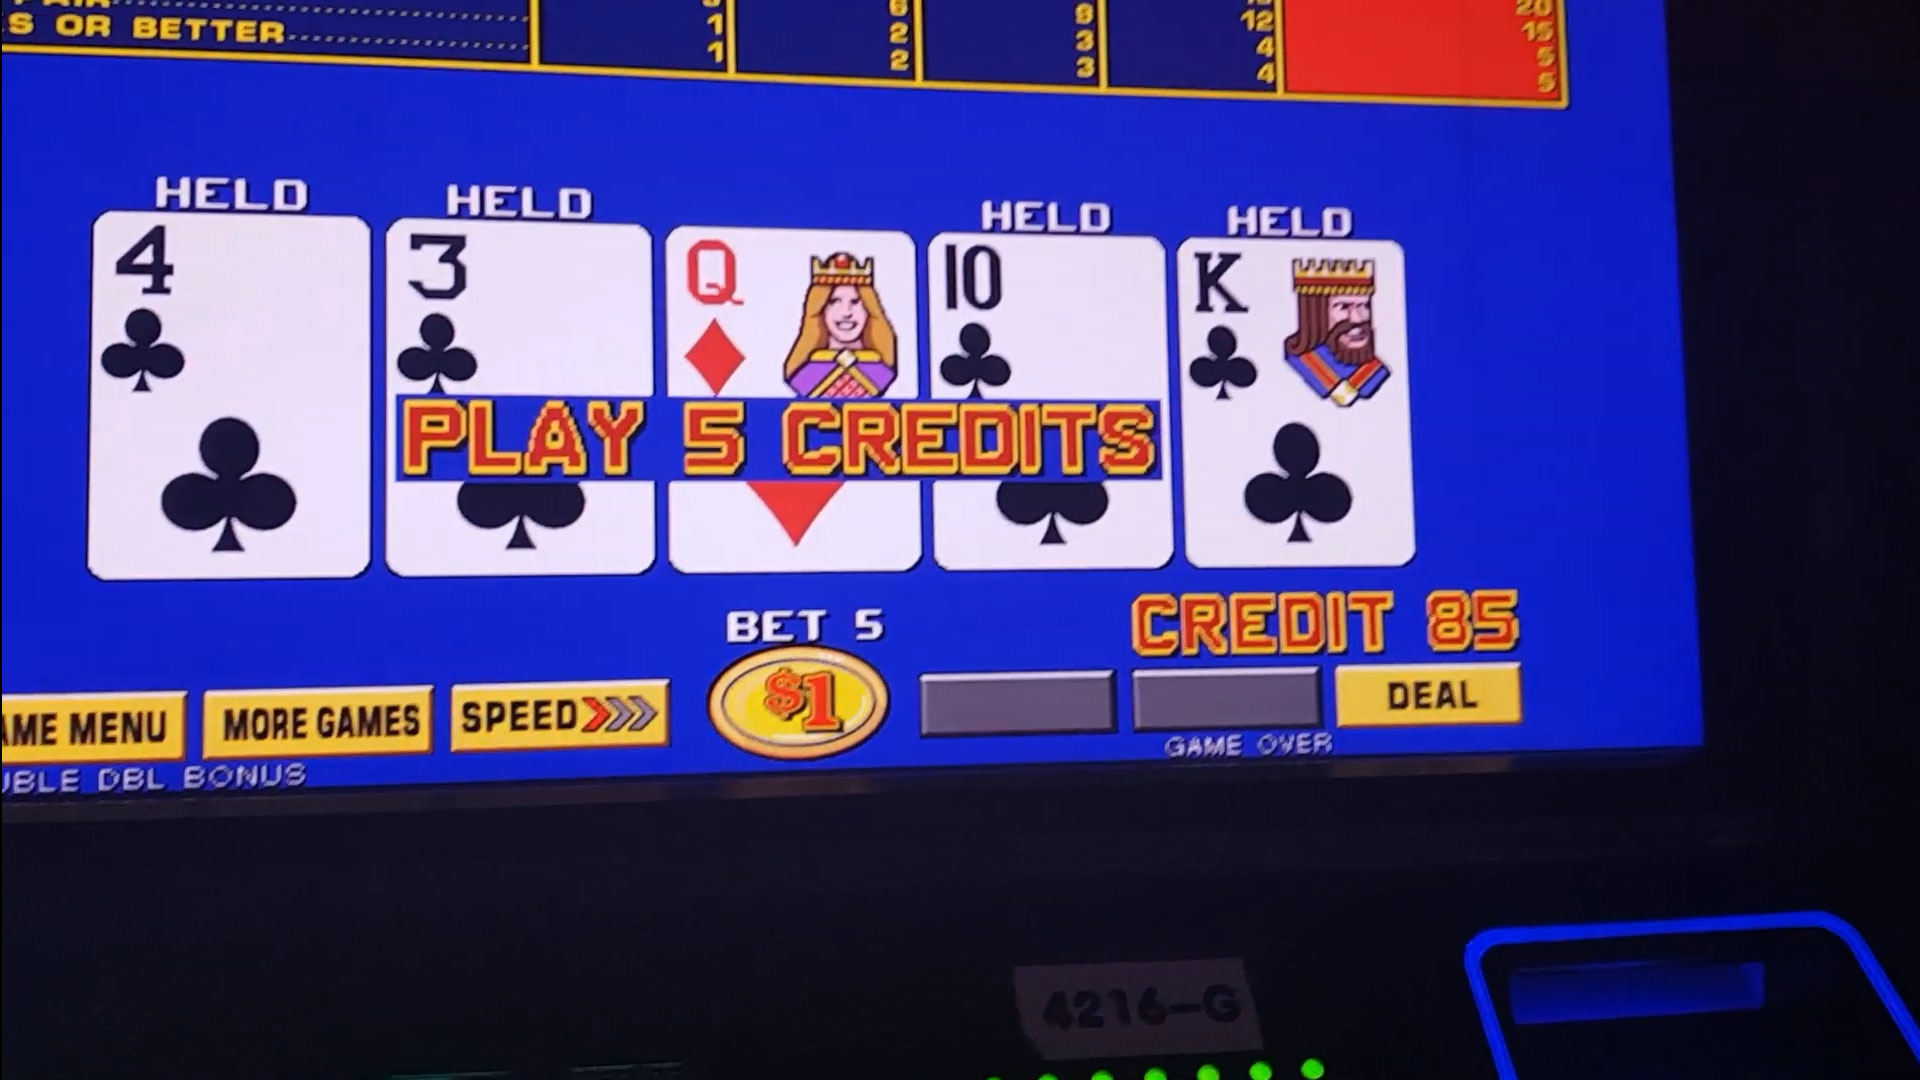C3: (392, 228, 649, 389)
C4: (100, 222, 364, 394)
CK: (1176, 237, 1404, 407)
CT: (932, 237, 1185, 400)
DQ: (669, 233, 913, 394)
